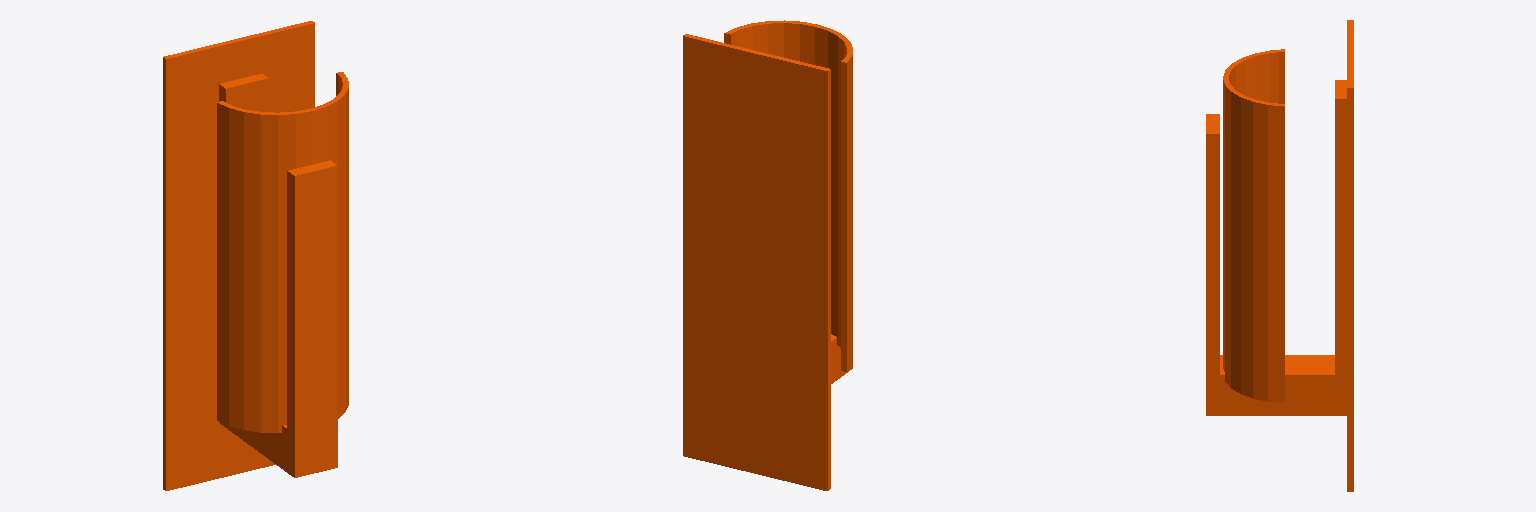
URDF robot description (WallLamp_a219f8cdedfec683fb47a82137221e8a):
<?xml version="1.0" ?>
<robot name="WallLamp_a219f8cdedfec683fb47a82137221e8a">
   <material name="obj_color">
      <color rgba="1.0 0.423529411765 0.0392156862745 1.0"/>
   </material>
   <link name="top">
      <inertial>
         <origin rpy="0.0007011734636345361 0.003571221920447162 0.003591086179175372" xyz="-0.0003271404489022119 0.005817470133833142 -0.005183645977821963"/>
         <mass value="0.9122537052212548"/>
         <inertia ixx="0.003579409453093279" ixy="9.877638324292706e-06" ixz="-8.668608859393439e-06" iyy="0.003582528990168378" iyz="3.1432506357352e-05" izz="0.000701543119995413"/>
      </inertial>
      <visual>
         <origin rpy="0 0 0" xyz="0 0 0"/>
         <geometry>
            <mesh filename="top_watertight_tiny.stl" scale="1 1 1"/>
         </geometry>
         <material name="obj_color"/>
      </visual>
      <collision>
         <origin rpy="0 0 0" xyz="0 0 0"/>
         <geometry>
            <mesh filename="top_watertight_tiny.obj" scale="1 1 1"/>
         </geometry>
      </collision>
   </link>
   <link name="bottom">
      <inertial>
         <origin rpy="1.633333333199431e-08 1.633333333199431e-08 1.633333333362855e-08" xyz="0.3464080000000008 0.3464080000000008 0.3464080000000008"/>
         <mass value="0.0009800000000000017"/>
         <inertia ixx="1.633333333253906e-08" ixy="5.447480642029219e-19" ixz="5.447480642029219e-19" iyy="1.633333333253906e-08" iyz="5.447480642029219e-19" izz="1.633333333253906e-08"/>
      </inertial>
      <visual>
         <origin rpy="0 0 0" xyz="0 0 0"/>
         <geometry>
            <mesh filename="bottom_watertight_tiny.stl" scale="1 1 1"/>
         </geometry>
         <material name="obj_color"/>
      </visual>
   </link>
   <link name="world"/>
   <joint name="world_to_base" type="fixed">
      <origin xyz="0 0 0"/>
      <axis xyz="0 0 0"/>
      <parent link="world"/>
      <child link="bottom"/>
   </joint>
   <joint name="rotation" type="revolute">
      <origin xyz="0 0 0"/>
      <axis xyz="0 0 -1"/>
      <parent link="bottom"/>
      <child link="top"/>
      <dynamics damping="1.0" friction="1.0"/>
      <limit effort="0.1" velocity="0.1" lower="0" upper="0.001"/>
   </joint>
</robot>

--- Render facts (derived) ---
3 views of the same robot in one strip: view 1: azimuth 30°, elevation 25°; view 2: azimuth 150°, elevation 25°; view 3: azimuth 270°, elevation 25° (orthographic).
Robot: WallLamp_a219f8cdedfec683fb47a82137221e8a — 3 links, 2 joints (1 revolute, 1 fixed); root link world; default pose: all joints at 0.
Links seen in each view (by area): view 1: top; view 2: top; view 3: top.
Link boxes in pixels (left/top/right/bottom): top: left=163, top=21, right=348, bottom=490; top: left=683, top=20, right=852, bottom=490; top: left=1206, top=20, right=1353, bottom=491.
Bounding box of the posed robot: 0.0807 × 0.0739 × 0.2236 m (x, y, z).
Meshes: 2 distinct files referenced, 1 mesh visuals loaded (1 binary STL); not drawn: 1 (reference not matched to a file when rendering).
